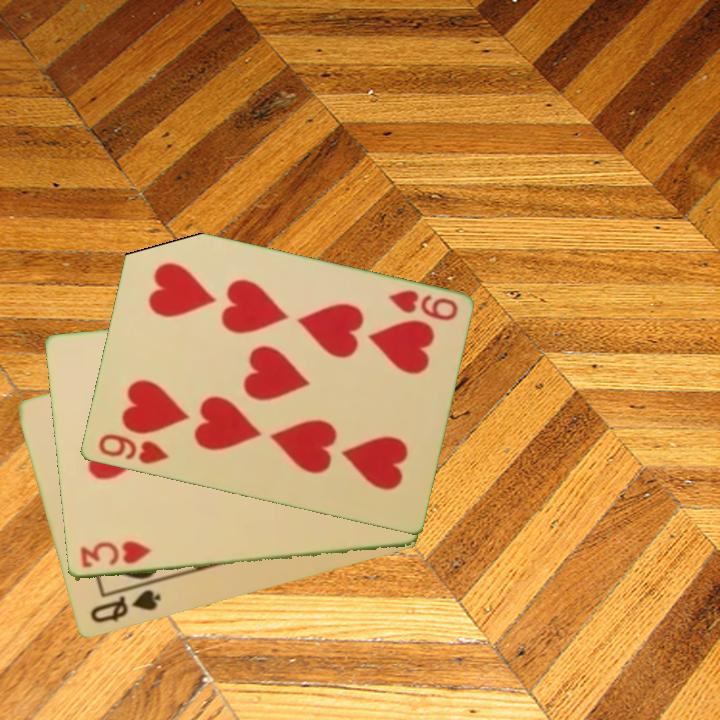3h: (76, 537, 153, 571)
9h: (94, 430, 171, 468), (384, 286, 461, 324)
Qs: (86, 586, 164, 627)
